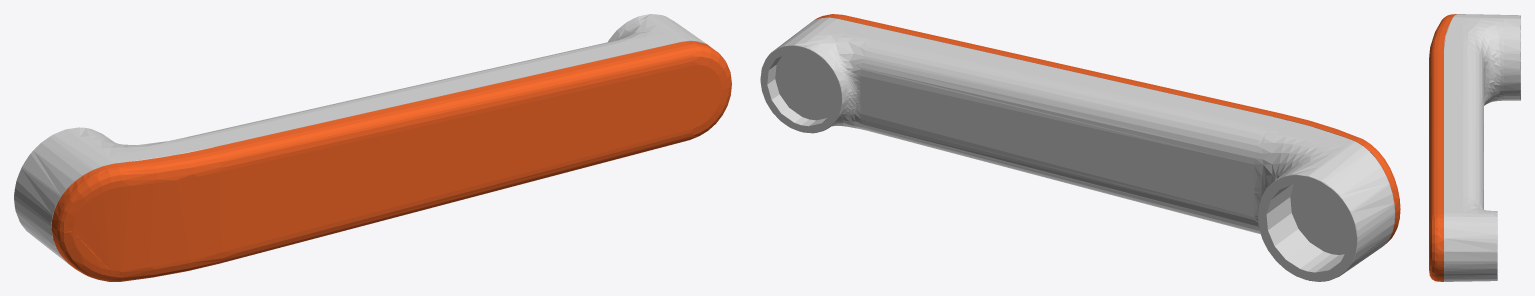
3 renders of one model, left to right at view 1: azimuth 30°, elevation 25°; view 2: azimuth 150°, elevation 25°; view 3: azimuth 270°, elevation 25°, orthographic. The views are drawn at different scales.
Parts seen in each view (by area): view 1: 10; view 2: 10; view 3: 10.
Part boxes in pixels (x1,y1,x2,y2): 10: (14,14,731,281); 10: (760,14,1400,281); 10: (1429,14,1520,281).
Size of the model in its own units: 0.4481 by 0.075 by 0.0785.
